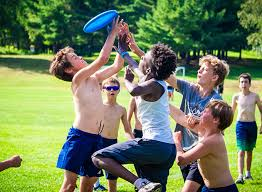disc: (80, 11, 119, 34)
